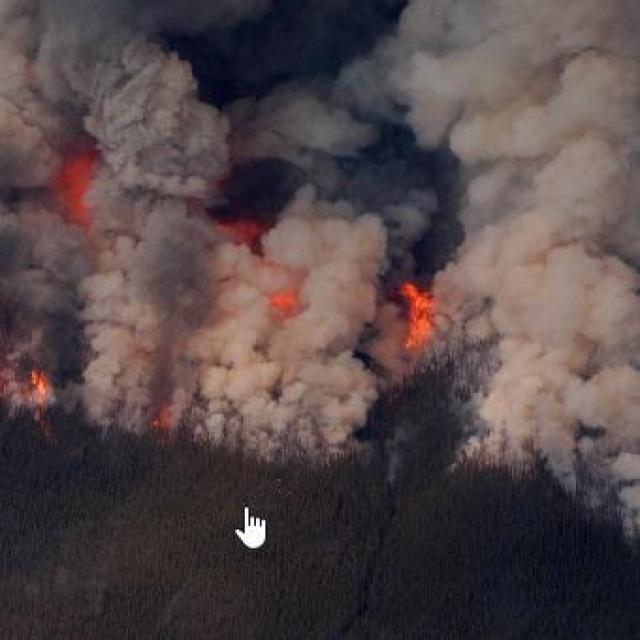Fire: (392, 277, 438, 355), (20, 360, 68, 410)
Smoke: (13, 0, 627, 485)
